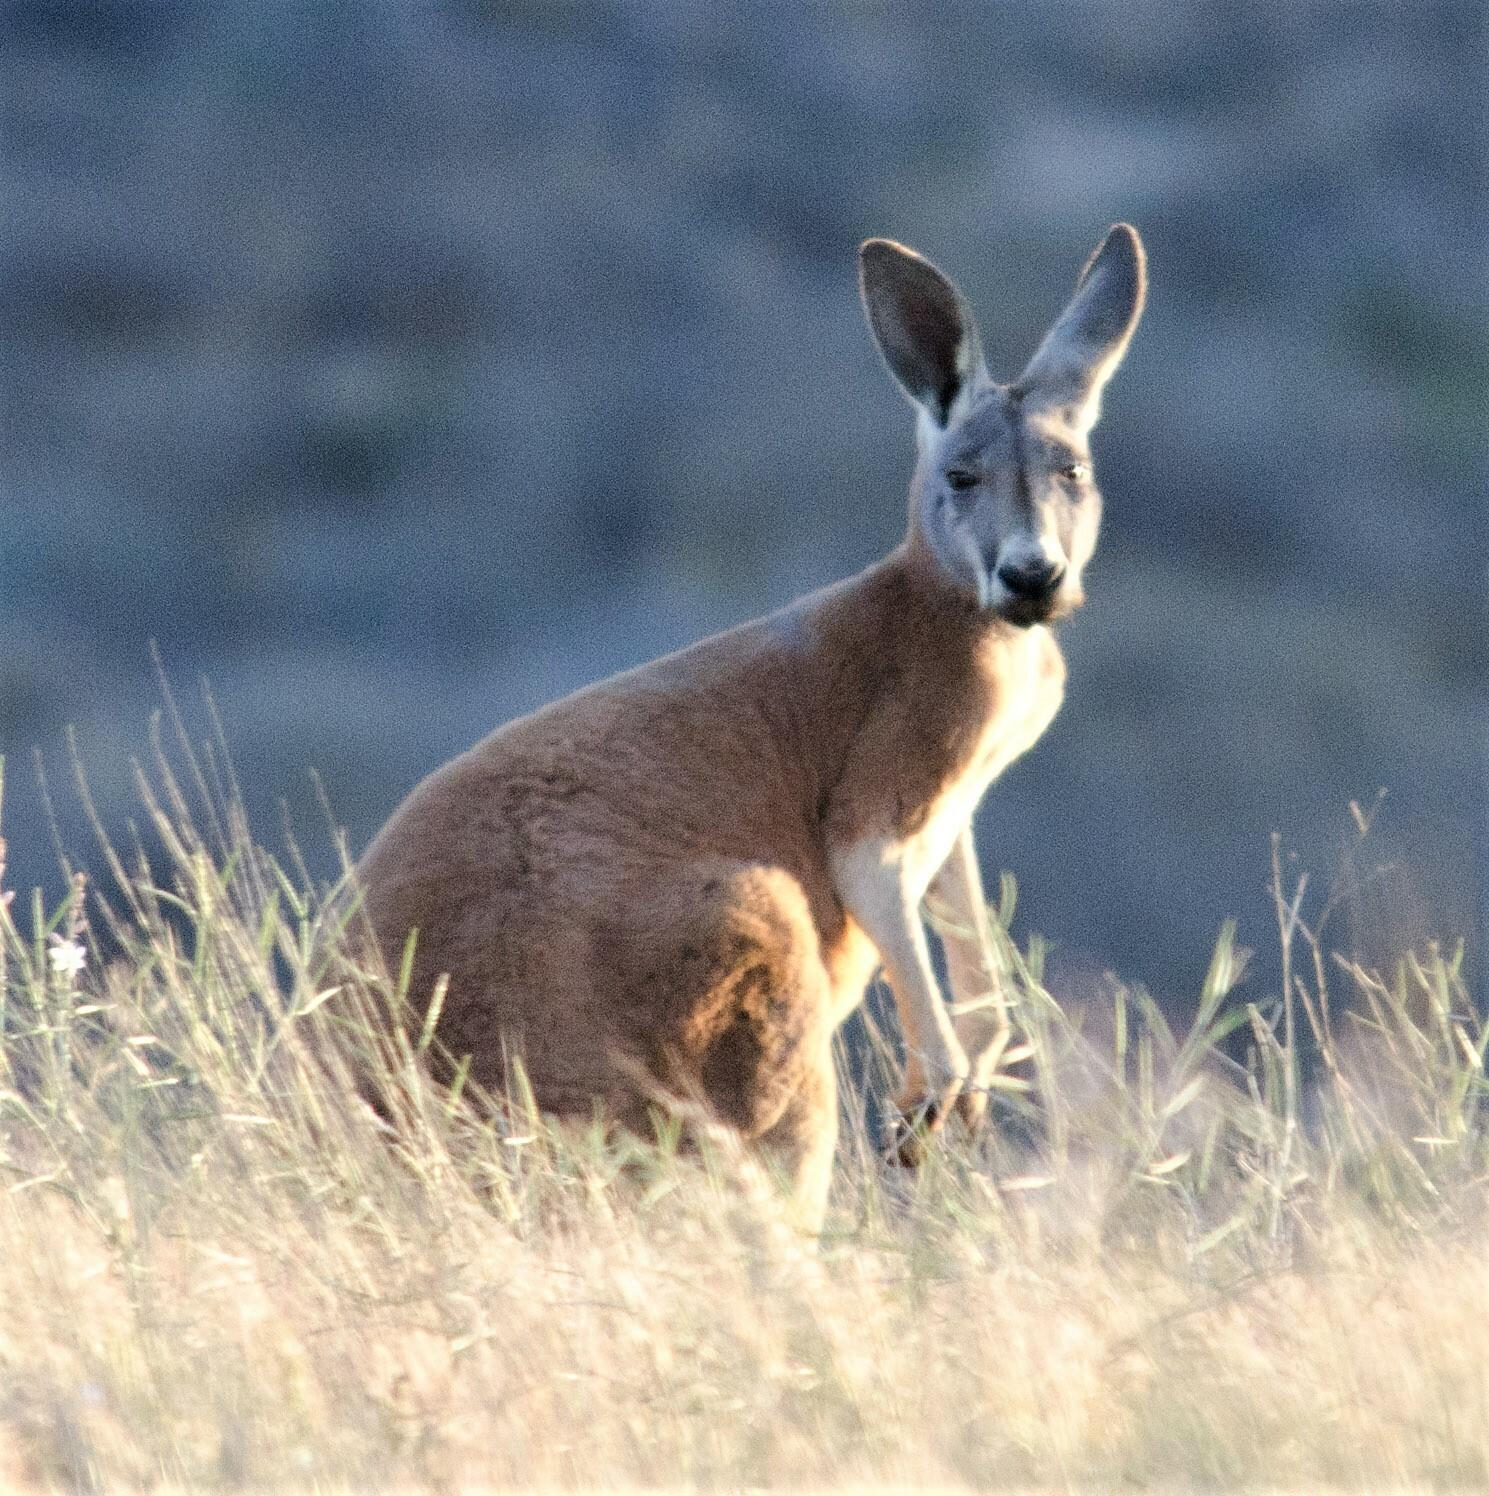Red kangaroo: (267, 222, 1149, 1210)
